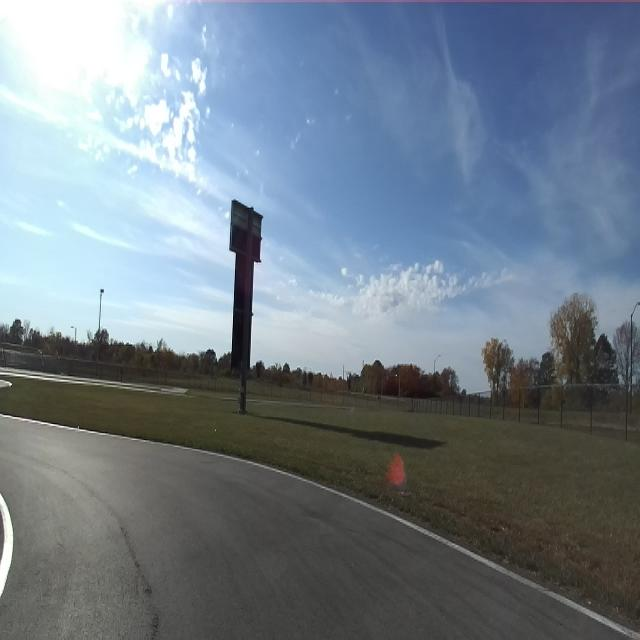white-line: (90, 430, 640, 639), (0, 493, 13, 596)
